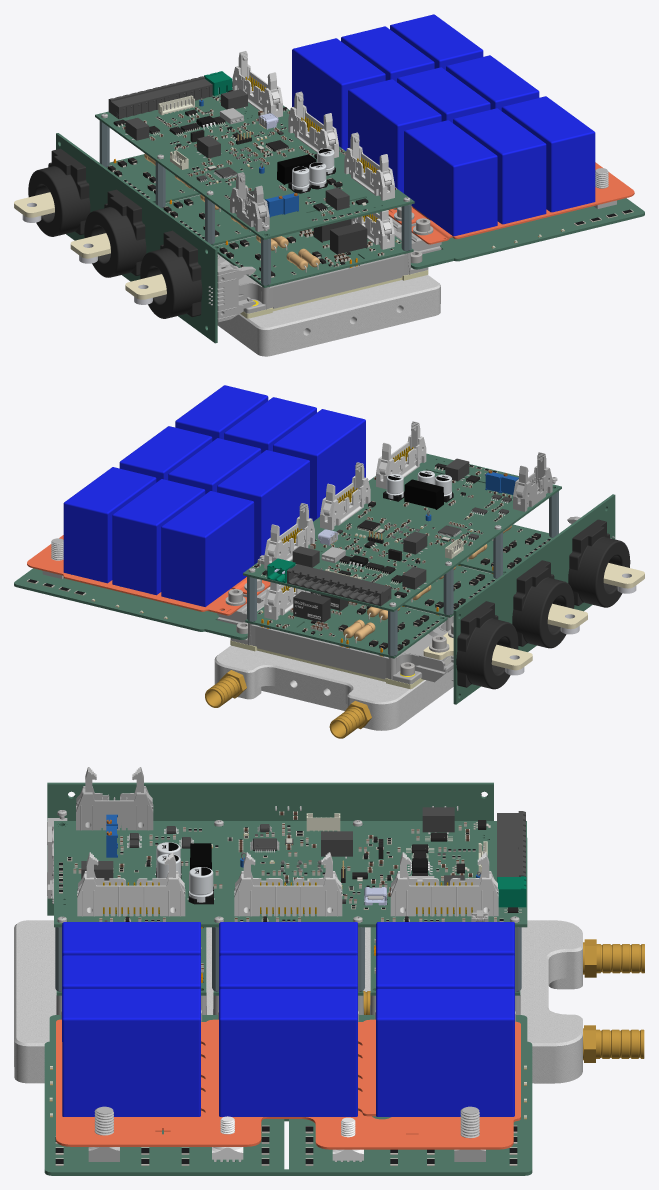
File: controller JLM Middle caps Liquid.glb
3 views of the same model, one above another, from view 1: azimuth 30°, elevation 25°; view 2: azimuth 150°, elevation 25°; view 3: azimuth 270°, elevation 25° (orthographic). The views are drawn at different scales.
Visible parts, largest first — view 1: Solid2 (×20), Solid1 (×13), Solid4, Srf1; view 2: Solid2 (×20), Solid1 (×14), Solid4; view 3: Solid1 (×16), Solid2 (×13), Solid3.
Part boxes in pixels (left/top/right/bottom): Solid2 (×20): left=14, top=14, right=595, bottom=304; Solid1 (×13): left=28, top=76, right=644, bottom=356; Solid4: left=217, top=216, right=441, bottom=318; Srf1: left=401, top=204, right=411, bottom=251; Solid2 (×20): left=63, top=385, right=644, bottom=675; Solid1 (×14): left=14, top=453, right=630, bottom=738; Solid4: left=217, top=587, right=453, bottom=689; Solid1 (×16): left=14, top=782, right=644, bottom=1175; Solid2 (×13): left=62, top=867, right=514, bottom=1116; Solid3: left=497, top=876, right=526, bottom=907.
Size of the model in its own units: 0.3251 by 0.0944 by 0.2614.
138 materials, 2 textured.
